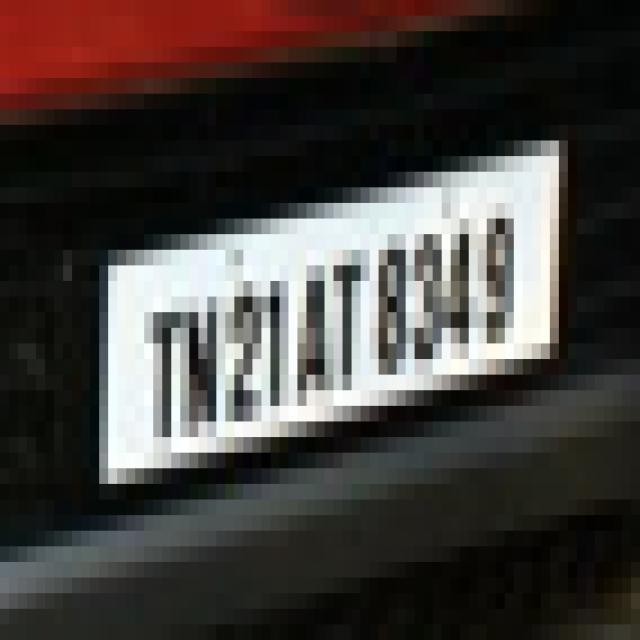1: (262, 277, 290, 409)
3: (408, 219, 450, 378)
4: (446, 212, 476, 352)
8: (373, 232, 413, 391)
9: (480, 202, 524, 366)
A: (291, 258, 330, 409)
N: (183, 288, 224, 447)
T: (142, 290, 184, 460), (332, 247, 364, 390)
